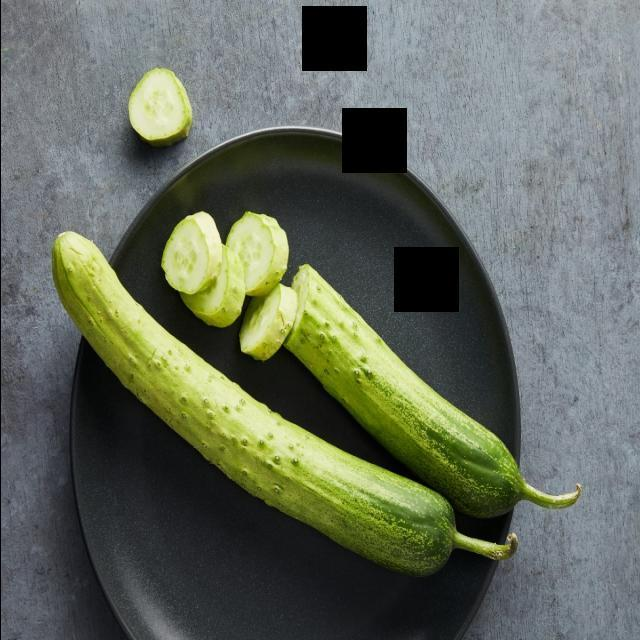cucumber: (33, 223, 499, 577), (282, 280, 564, 535), (195, 208, 302, 360), (138, 192, 232, 305), (207, 198, 299, 310), (114, 60, 196, 176)
